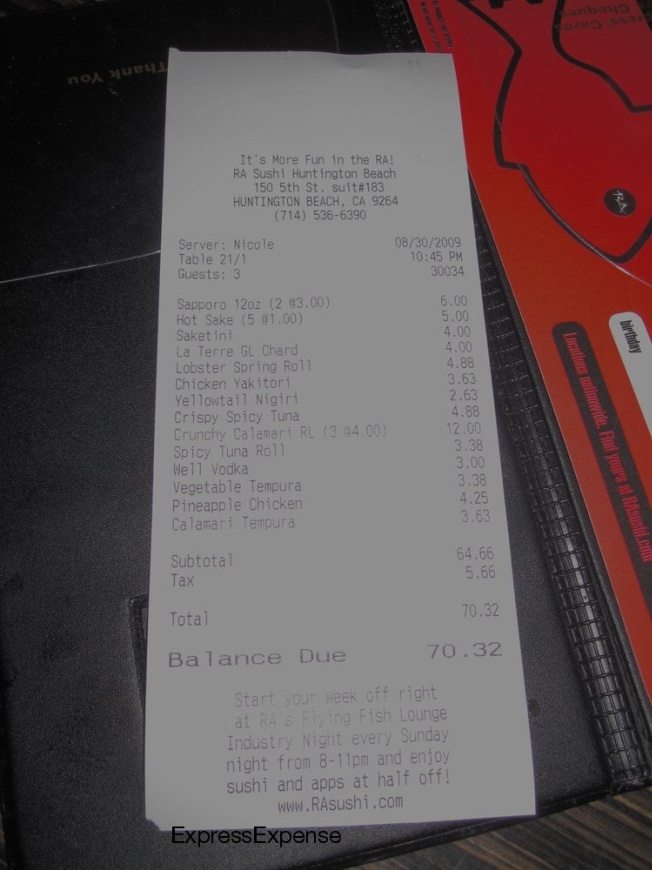Additional details: (213, 679, 467, 824)
Purchase summary: (160, 224, 515, 681)
Receipt: (147, 45, 523, 832)
Shop details: (215, 137, 415, 228)
